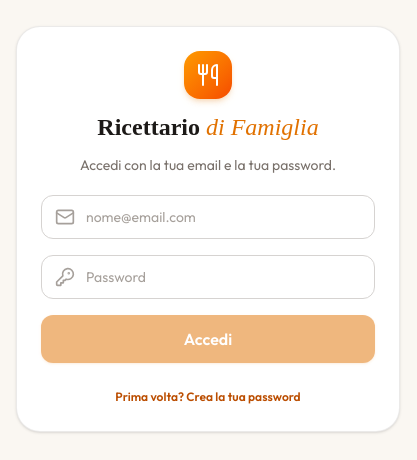
Scenario: Accesso al ricettario › rifiuta un'email non abilitata senza contattare il server
Type "estraneo@gmail.com" into the field labelled "email" at (208, 217), box top-left (41, 195), bottom-right (375, 239)
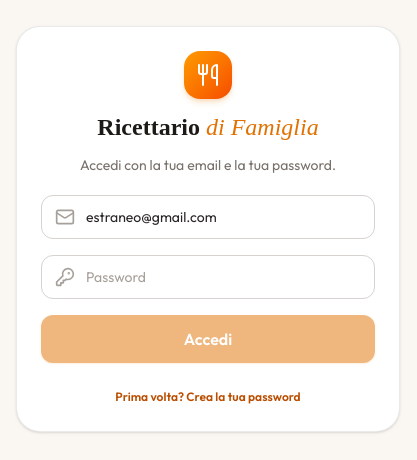
Type "segreta123" into the password field labelled "Password" at (208, 277), box top-left (41, 255), bottom-right (375, 299)
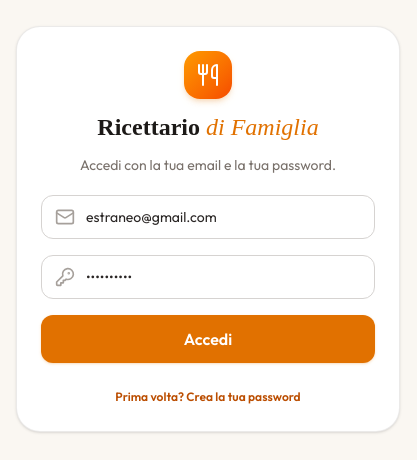
Submit the form named "Email", box top-left (41, 195), bottom-right (375, 363)
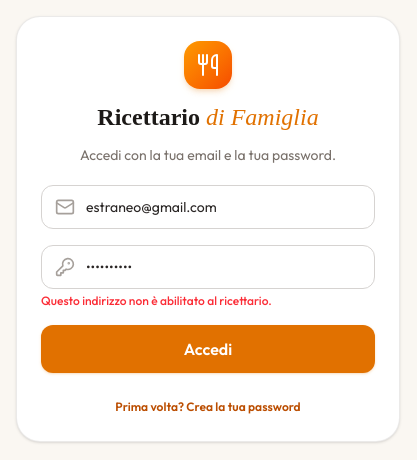
Expected: the text "Questo indirizzo non è abilitato al ricettario." is shown, top-left (41, 293), bottom-right (272, 308)
